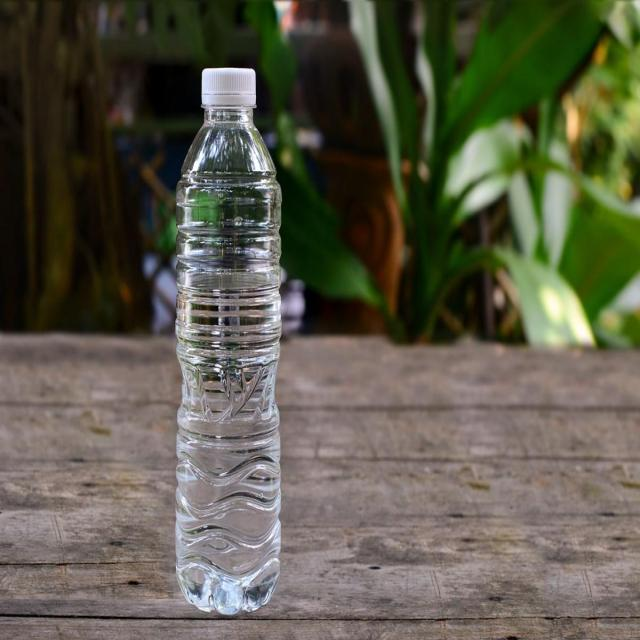plastic bottle: (175, 104, 284, 617)
plastic bottle cap: (201, 65, 257, 108)
